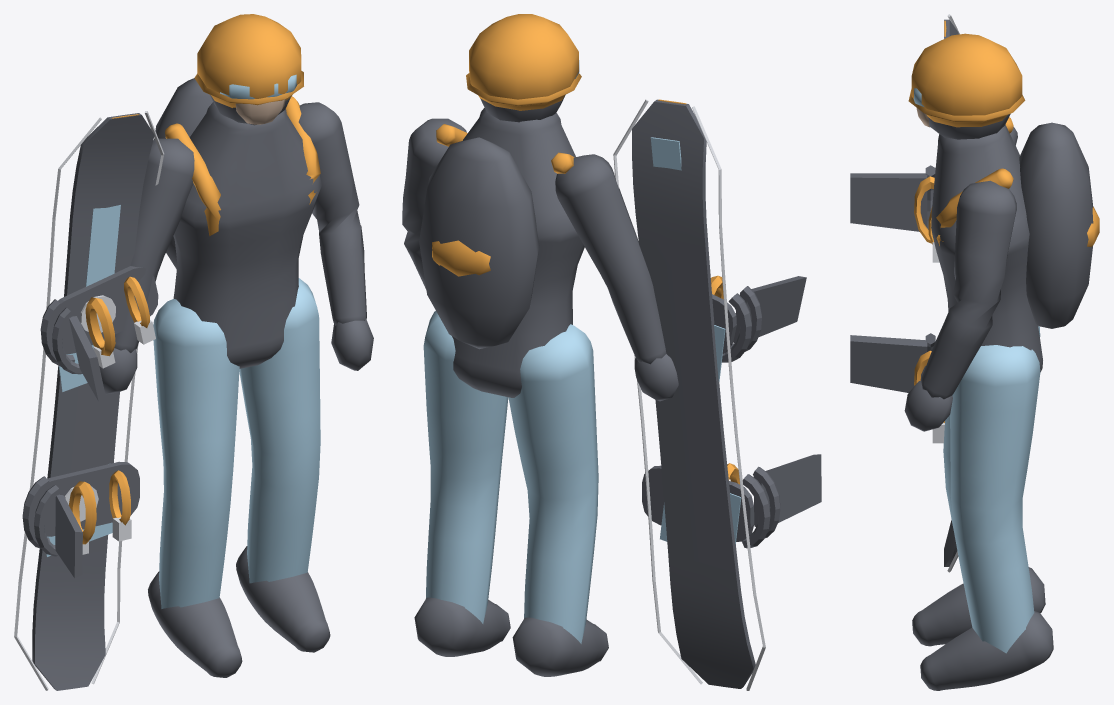
File: backcountry-snowboarding-and-avalanche-safety-rider-st-4b0c38dd__18922.glb
The picture shows the model from 3 angles, left to right: view 1: azimuth 30°, elevation 25°; view 2: azimuth 150°, elevation 25°; view 3: azimuth 270°, elevation 25°; orthographic projection. The views are drawn at different scales.
Visible parts, largest first — view 1: rider-standing-with-board; view 2: rider-standing-with-board; view 3: rider-standing-with-board.
Boxes of the visible parts, bbox=[...] form: rider-standing-with-board: bbox=[14, 14, 373, 690]; rider-standing-with-board: bbox=[402, 14, 821, 690]; rider-standing-with-board: bbox=[850, 14, 1099, 690].
Size of the model in its own units: 0.9855 by 1.71 by 0.6136.
